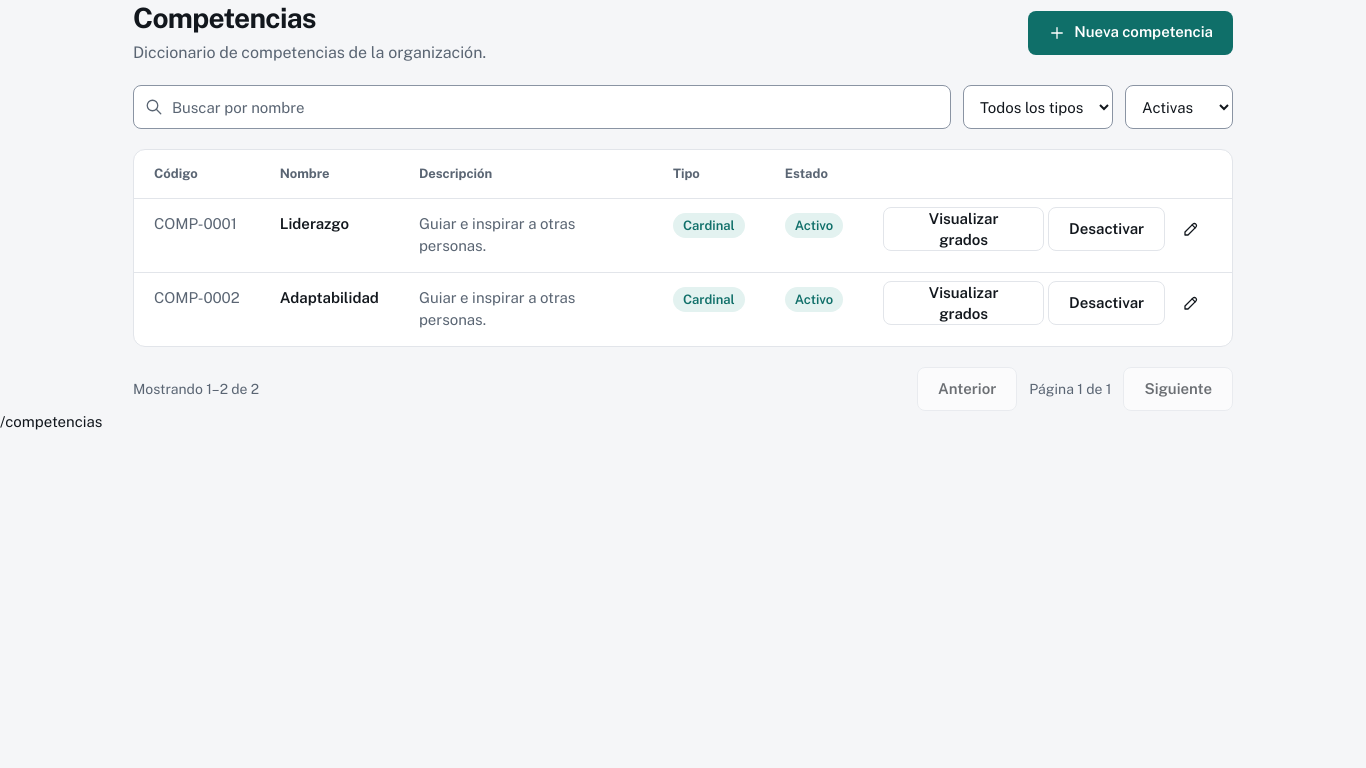
it: CompetenciasPage (activar y desactivar) › si ya estaba en ese estado (422) cierra el diálogo, avisa y refresca
Expected: the column heading "Liderazgo" is shown, [260,198,399,272]
Click the button with aria-label "Desactivar Liderazgo".
click(1107, 229)  # box [1048,207,1165,251]
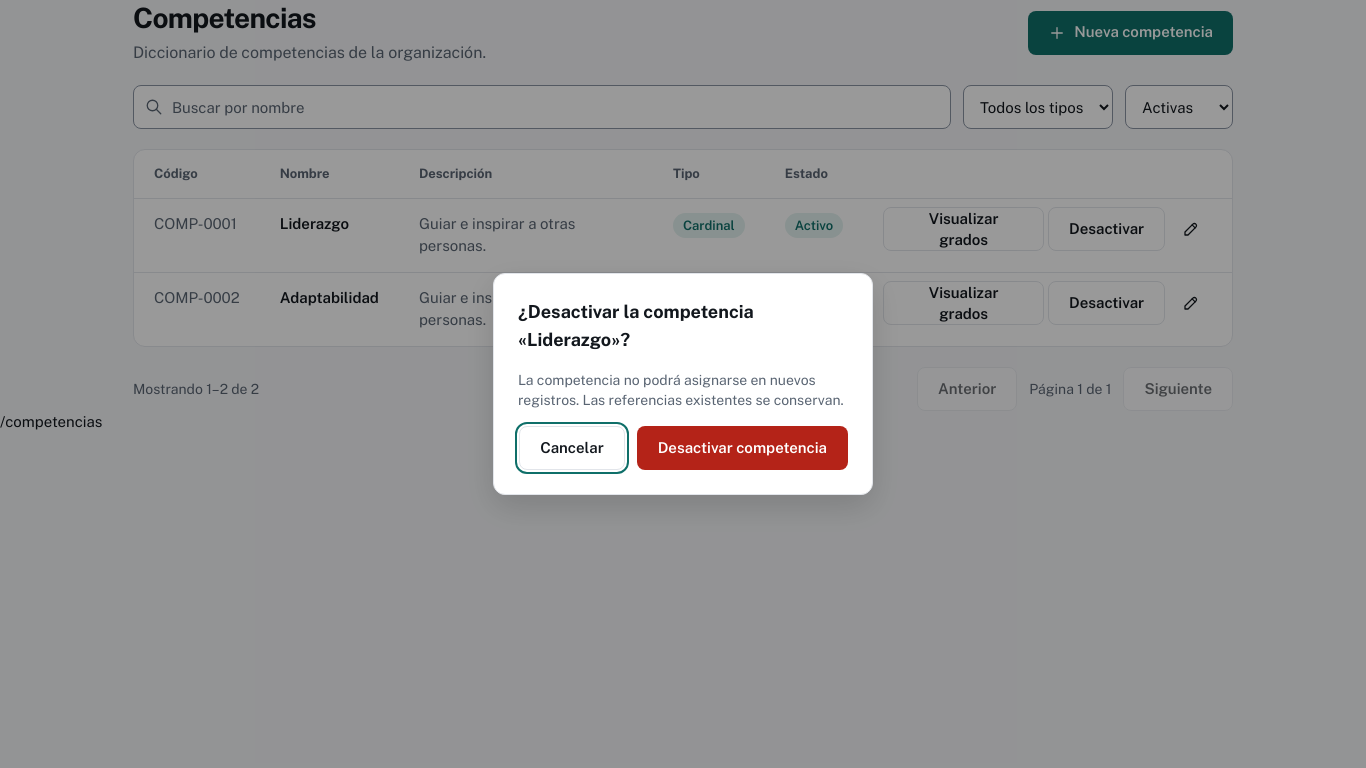
Click the button "Desactivar competencia".
click(742, 448)  # box [637,426,848,470]
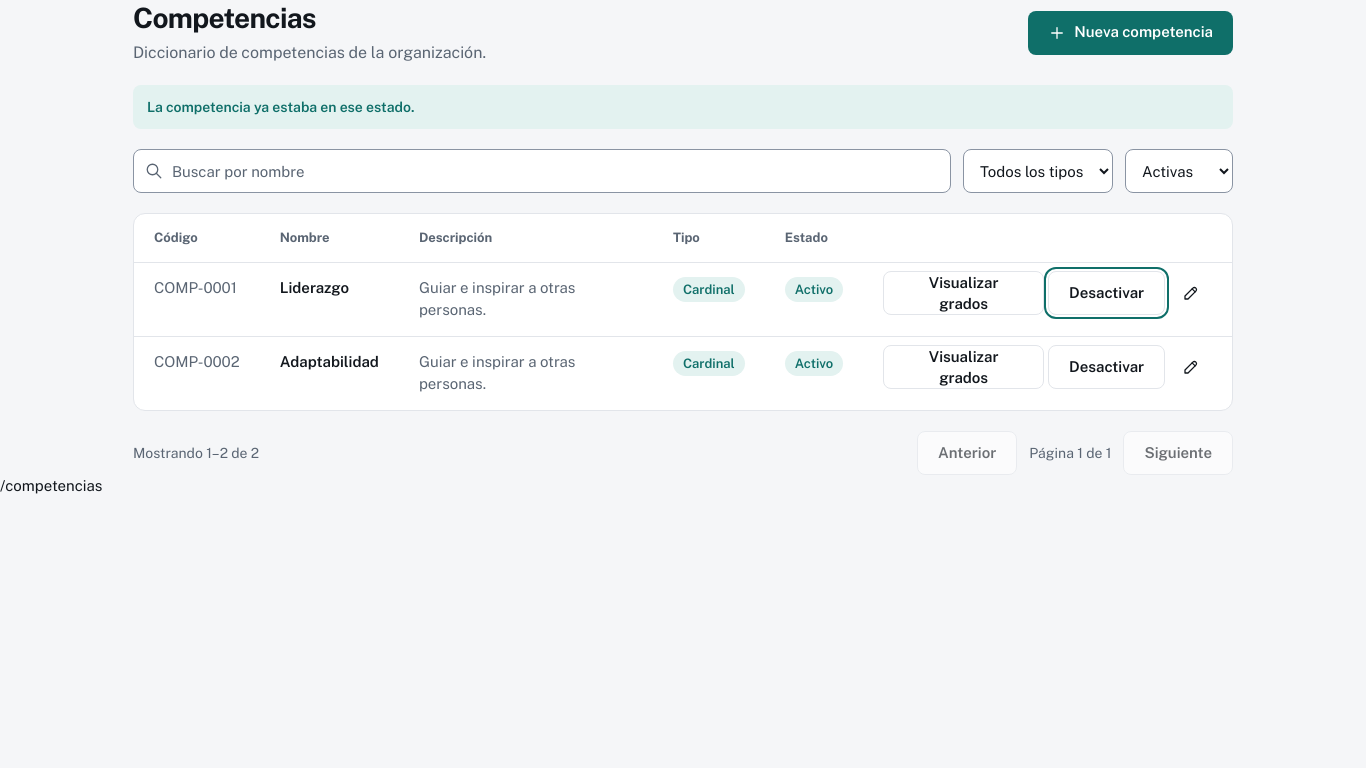
Expected: the text "La competencia ya estaba en ese estado." is shown, [133,85,1233,129]
Expected: the dialog is gone
